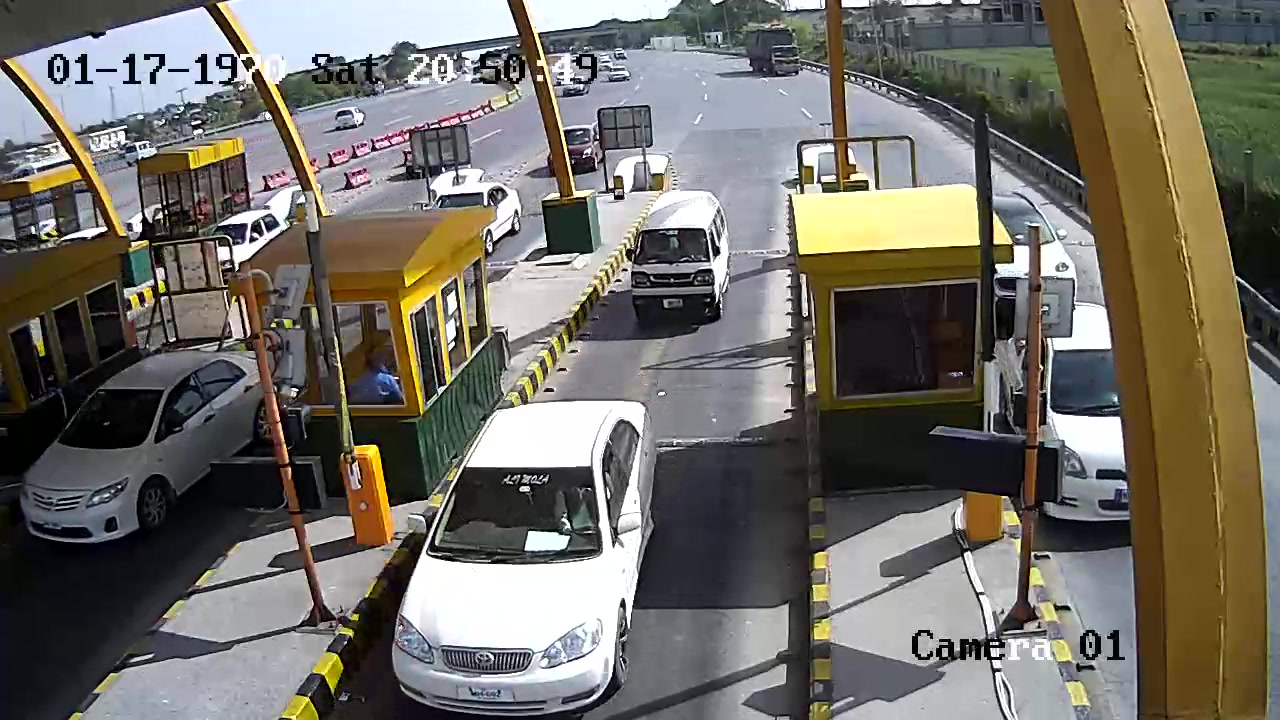F1: (386, 391, 674, 712), (625, 185, 744, 329)
